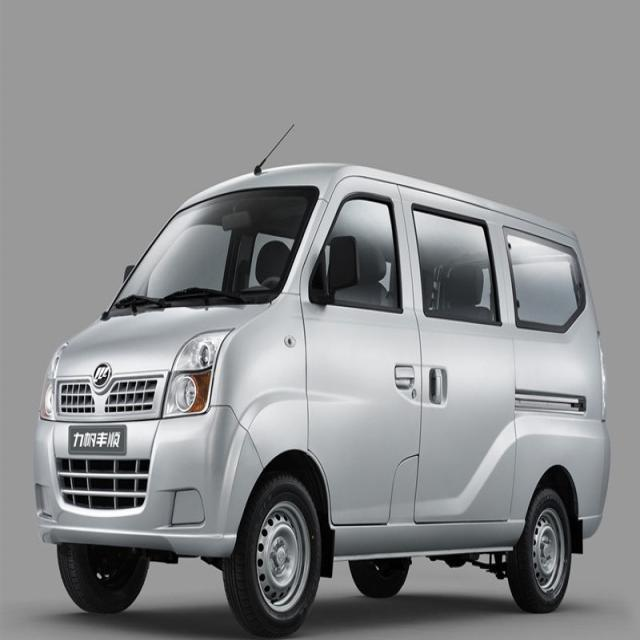door: (401, 183, 527, 533)
front_bumper: (33, 400, 266, 558)
front_glass: (109, 182, 323, 321)
front_left_side_door: (300, 173, 423, 527)
front_left_side_light: (159, 325, 233, 423)
front_left_side_mirror: (325, 232, 361, 302)
front_right_side_light: (38, 342, 66, 423)
wheel: (224, 476, 324, 634), (510, 490, 572, 605), (56, 550, 149, 613)
